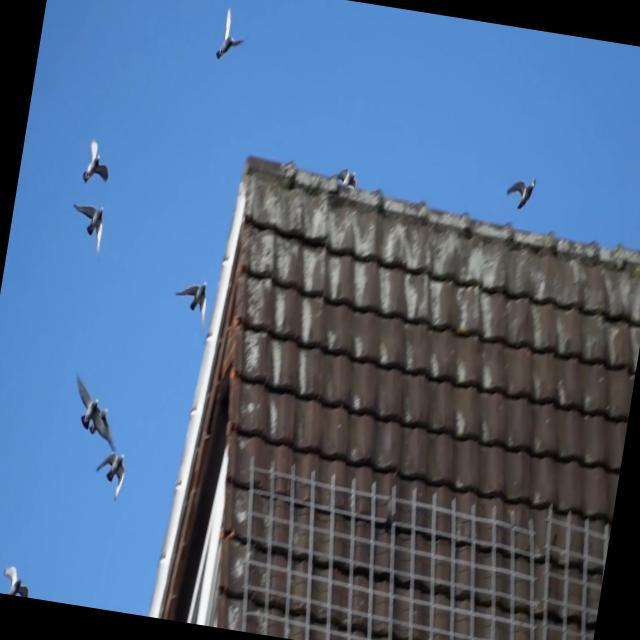bird: (65, 372, 116, 442), (65, 198, 109, 254), (169, 274, 213, 329), (214, 5, 251, 67), (81, 403, 124, 455), (90, 449, 130, 504), (80, 135, 115, 188), (502, 173, 538, 214), (0, 562, 35, 598)
